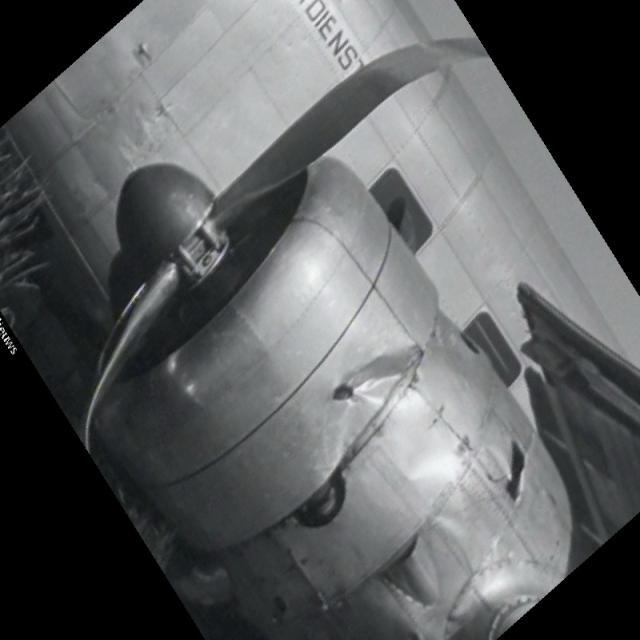dent: (338, 337, 411, 430)
